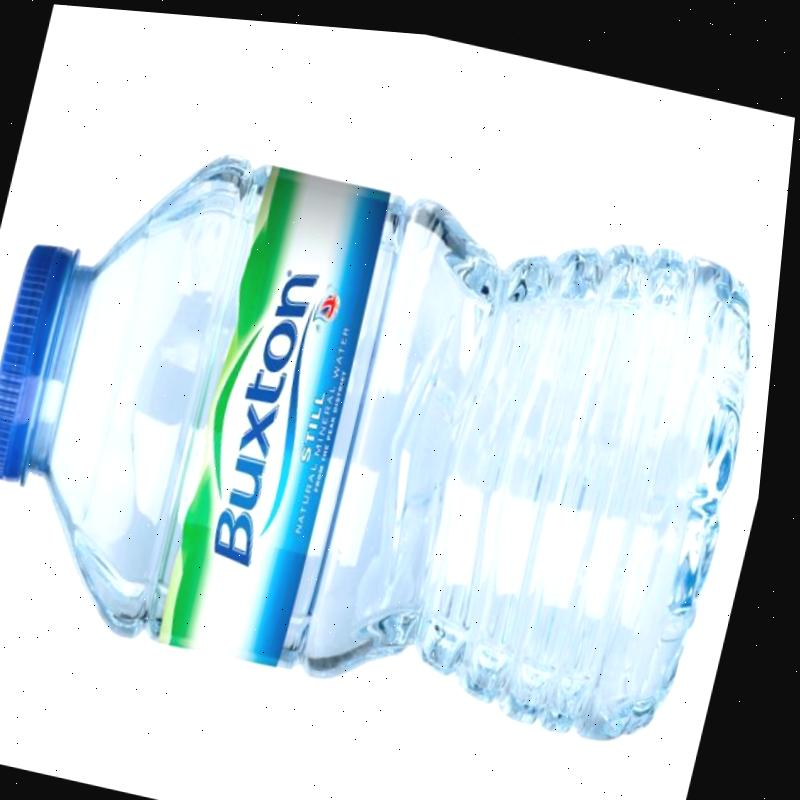botella: (0, 104, 792, 765)
